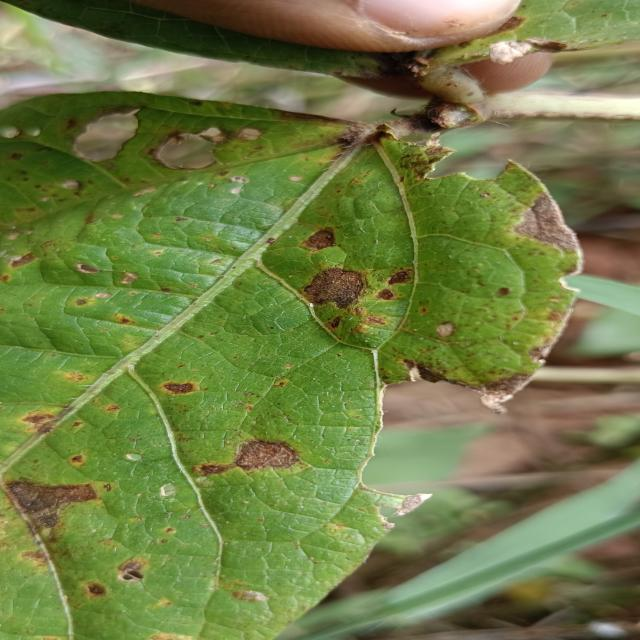Black gram_leaf spot: (0, 83, 612, 639)
